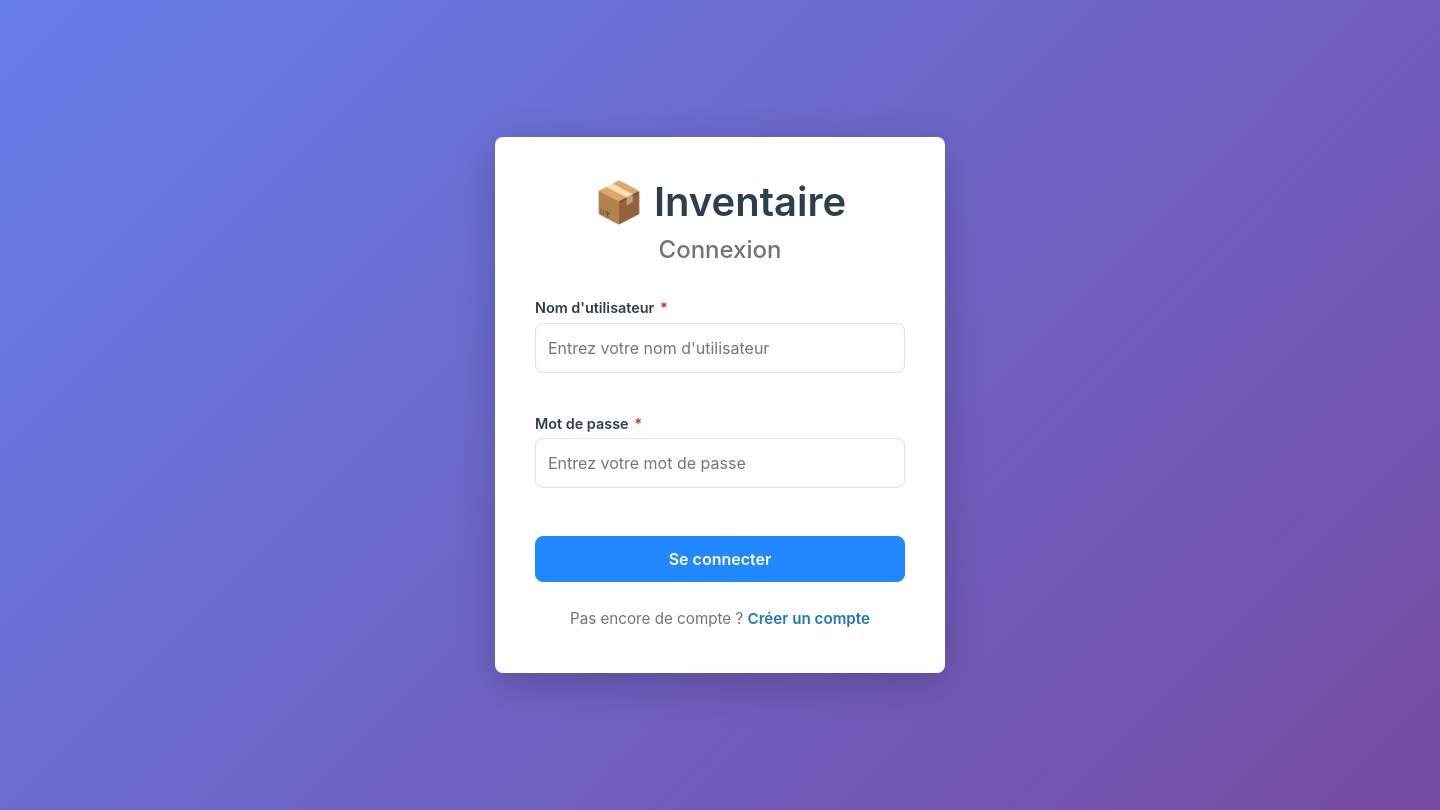
Scenario: Login › affiche une erreur si le username est vide
What coordinates should you click on to do the following:
click the button "Se connecter"
I would click on:
 (720, 559)
Its box is [535,536,905,582].
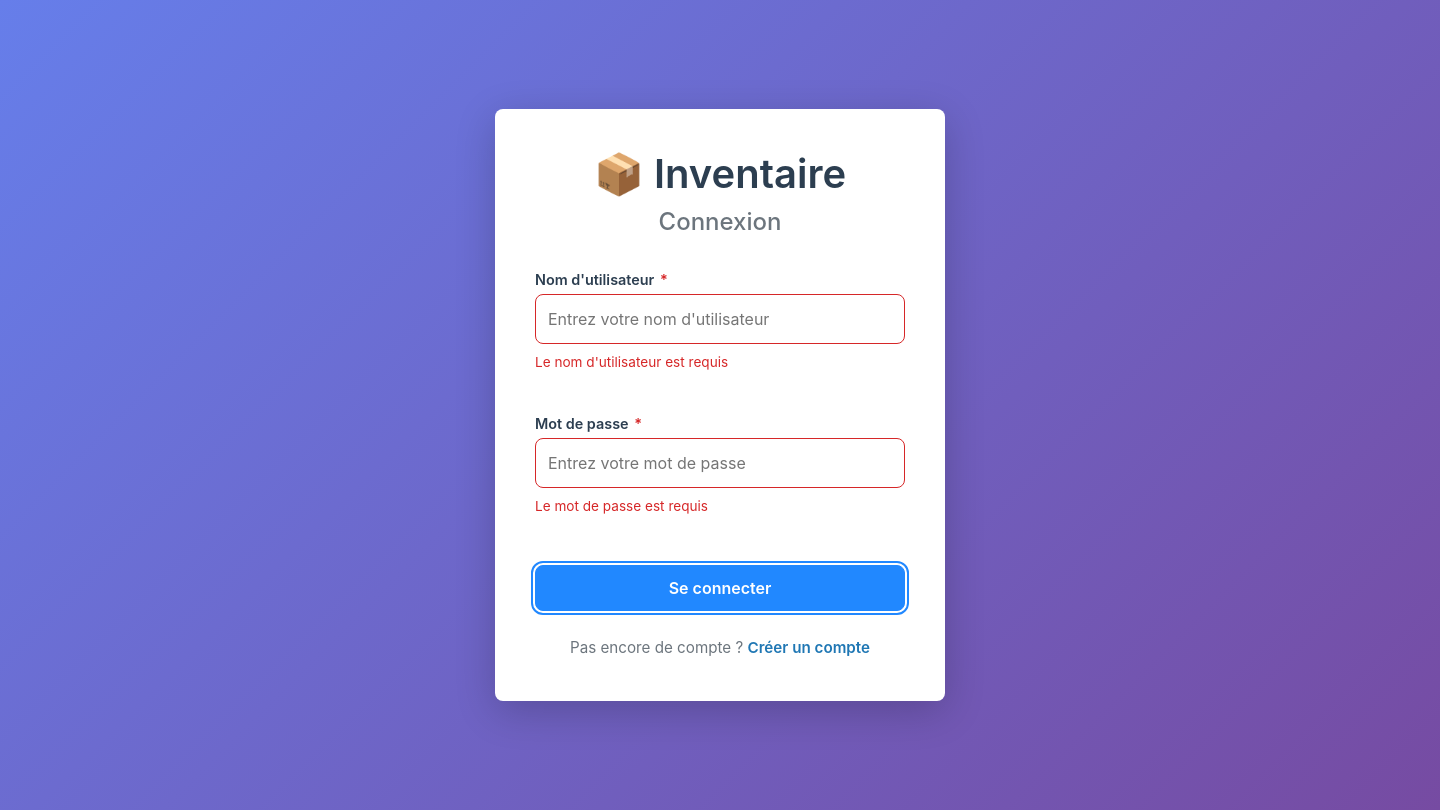
Result: the text "Le nom d'utilisateur est requis" is shown at [535,354,728,370]
